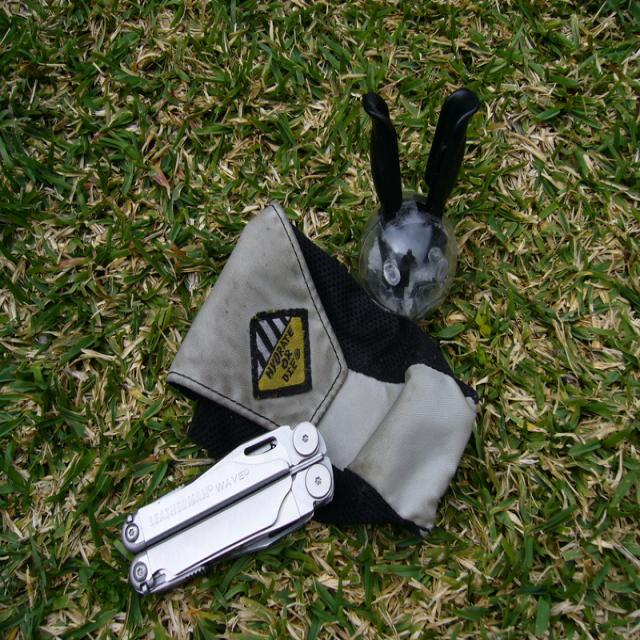tool- glouse: (122, 423, 333, 594)
